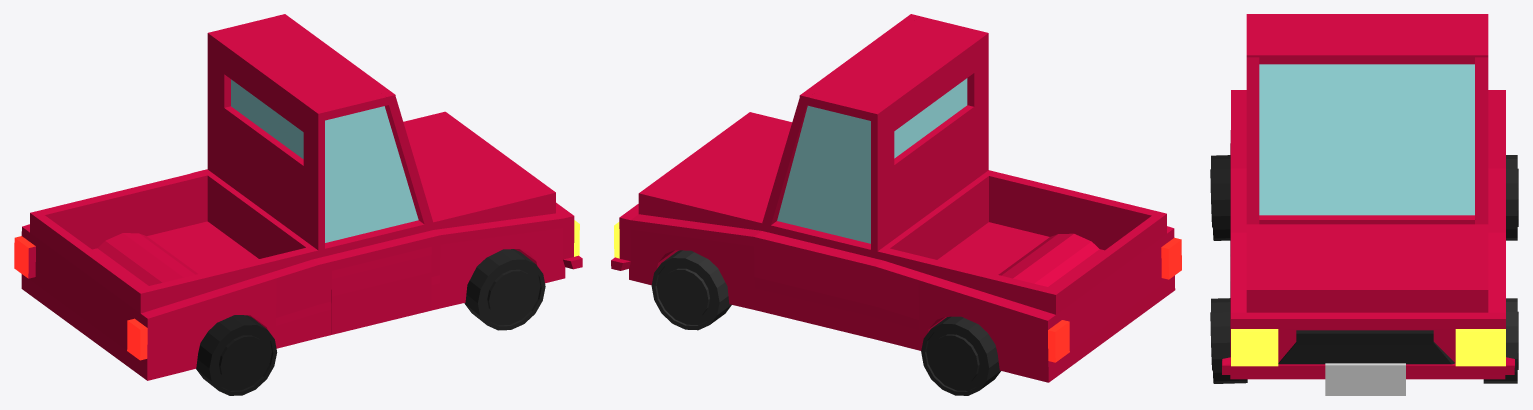
The model's file is Car.fbx.
3 renders of one model, left to right at view 1: azimuth 30°, elevation 25°; view 2: azimuth 150°, elevation 25°; view 3: azimuth 270°, elevation 25°, orthographic. The views are drawn at different scales.
Parts seen in each view (by area): view 1: Cube, Cylinder.003, Cylinder.002; view 2: Cube, Cylinder.001, Cylinder; view 3: Cube, Cube.001, Cylinder.003, Cylinder.002, Cylinder.001, Cylinder.
Part boxes in pixels (bbox=[...]): Cube: bbox=[14, 14, 582, 380]; Cylinder.003: bbox=[196, 315, 277, 395]; Cylinder.002: bbox=[464, 249, 545, 330]; Cube: bbox=[611, 14, 1181, 382]; Cylinder.001: bbox=[921, 316, 1000, 395]; Cylinder: bbox=[651, 250, 731, 330]; Cube: bbox=[1222, 14, 1514, 379]; Cube.001: bbox=[1325, 363, 1405, 395]; Cylinder.003: bbox=[1210, 155, 1230, 240]; Cylinder.002: bbox=[1210, 298, 1247, 383]; Cylinder.001: bbox=[1506, 155, 1518, 240]; Cylinder: bbox=[1483, 298, 1518, 383].
Bounding box in the file's own units: 567 × 306 × 315.
